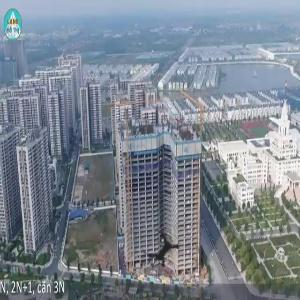drone: (127, 217, 199, 289)
